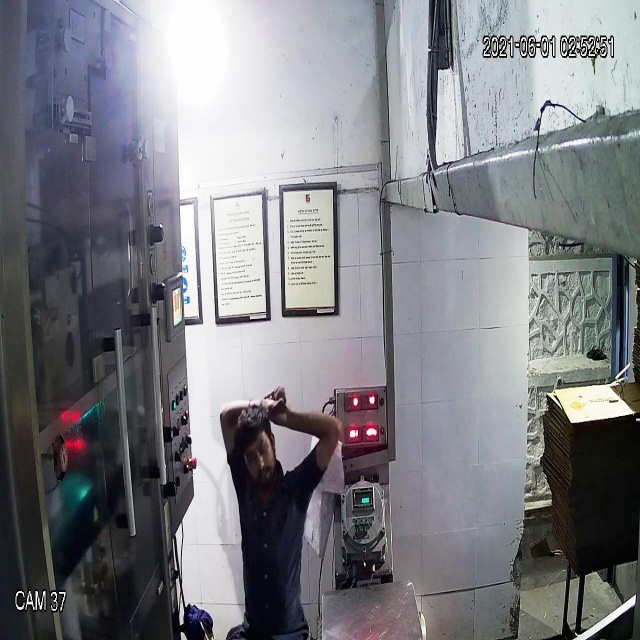Sin_gafas: (239, 432, 274, 469)
